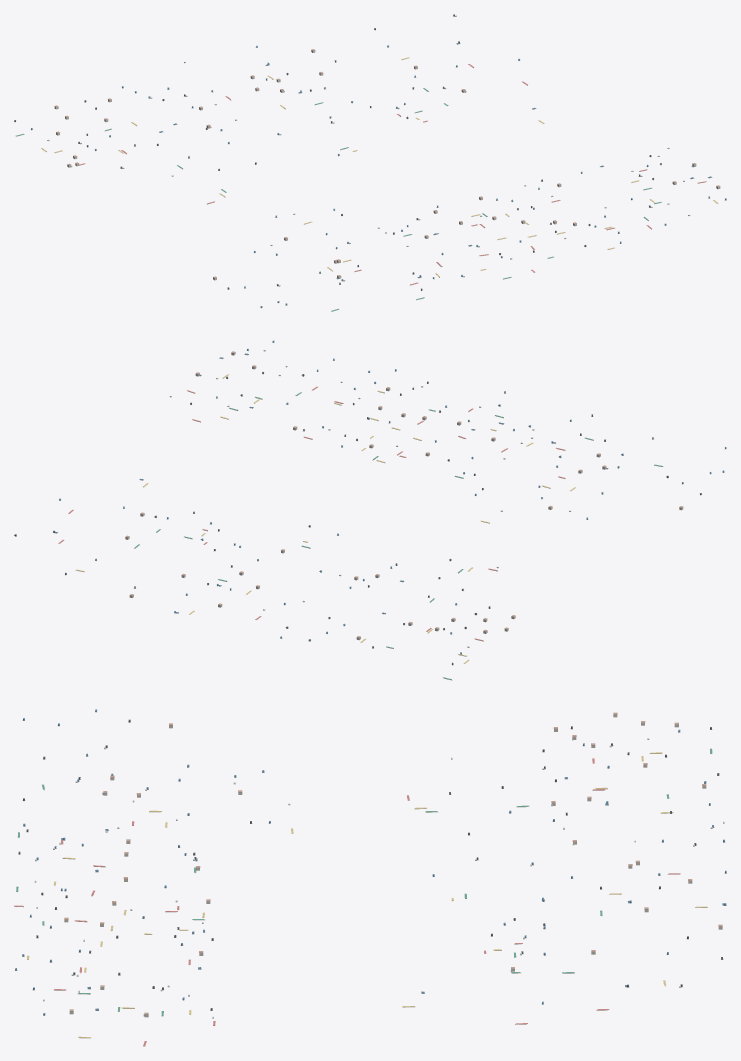
3 views of the same model, one above another, from view 1: azimuth 30°, elevation 25°; view 2: azimuth 150°, elevation 25°; view 3: azimuth 270°, elevation 25° (orthographic). The views are drawn at different scales.
Parts seen in each view (by area): view 1: OSM-anchored illustrative rooftops, façades and shop awnings; view 2: OSM-anchored illustrative rooftops, façades and shop awnings; view 3: OSM-anchored illustrative rooftops, façades and shop awnings.
Boxes of the visible parts, bbox=[...] form: OSM-anchored illustrative rooftops, façades and shop awnings: bbox=[14, 14, 726, 311]; OSM-anchored illustrative rooftops, façades and shop awnings: bbox=[14, 340, 726, 680]; OSM-anchored illustrative rooftops, façades and shop awnings: bbox=[14, 709, 726, 1046].
Bounding box in the file's own units: 491 × 32.49 × 484.
